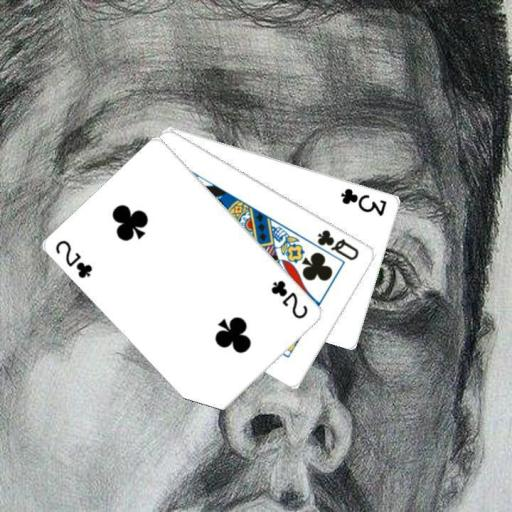card-corner: (268, 276, 310, 320), (52, 237, 94, 280), (314, 226, 362, 263), (338, 185, 389, 217)
